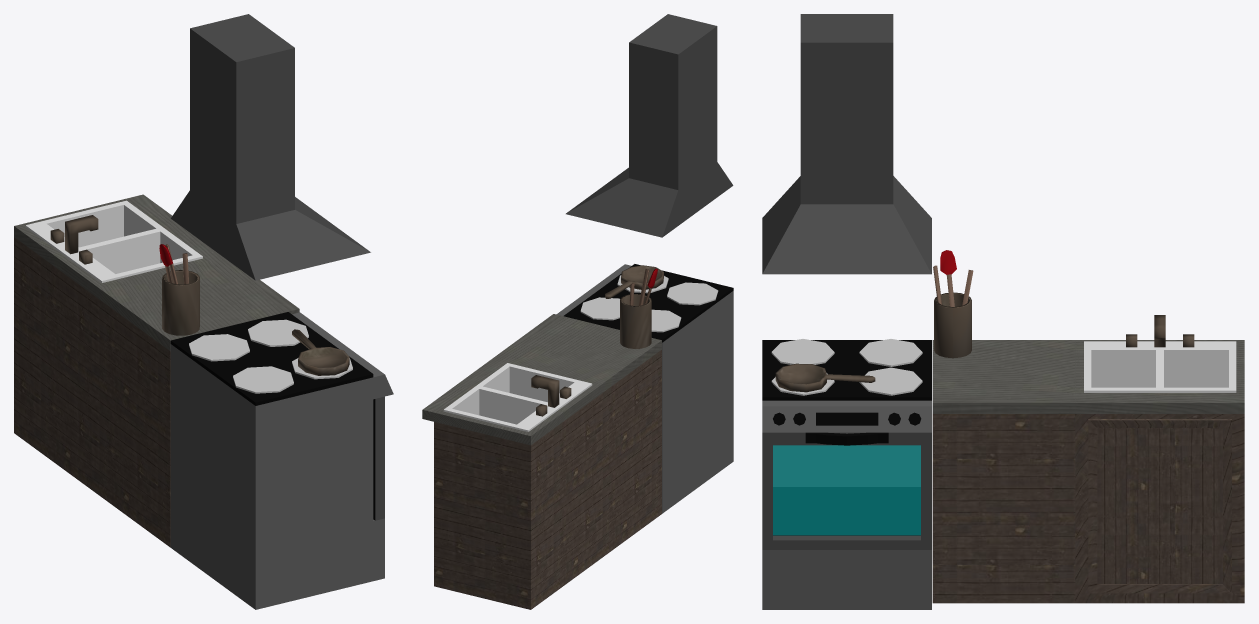
Rendered from OvenStoveSinkAndCounter.fbx.
3 renders of one model, left to right at view 1: azimuth 30°, elevation 25°; view 2: azimuth 150°, elevation 25°; view 3: azimuth 270°, elevation 25°, orthographic. The views are drawn at different scales.
Visible parts, largest first — view 1: Oven, Sink, Stove Fan, Utensil caddy, Pan, Oven Door; view 2: Sink, Stove Fan, Oven, Utensil caddy, Pan; view 3: Sink, Oven, Stove Fan, CupboardDoor, Oven Door, Utensil caddy, Pan.
Part boxes in pixels (box(x1,y1,x2,y2)): Oven: box(170, 312, 393, 609); Sink: box(14, 194, 299, 547); Stove Fan: box(171, 14, 370, 280); Utensil caddy: box(159, 244, 199, 335); Pan: box(292, 329, 349, 375); Oven Door: box(373, 396, 384, 520); Sink: box(422, 314, 661, 609); Stove Fan: box(566, 14, 733, 237); Oven: box(556, 264, 733, 513); Utensil caddy: box(620, 268, 657, 348); Pan: box(605, 265, 663, 298); Sink: box(932, 315, 1244, 603); Oven: box(762, 339, 931, 609); Stove Fan: box(762, 14, 931, 274); CupboardDoor: box(1088, 419, 1231, 593); Oven Door: box(762, 432, 931, 549); Utensil caddy: box(933, 250, 973, 358); Pan: box(775, 363, 875, 392).
Size of the model in its own units: 136 by 45.2 by 165.
